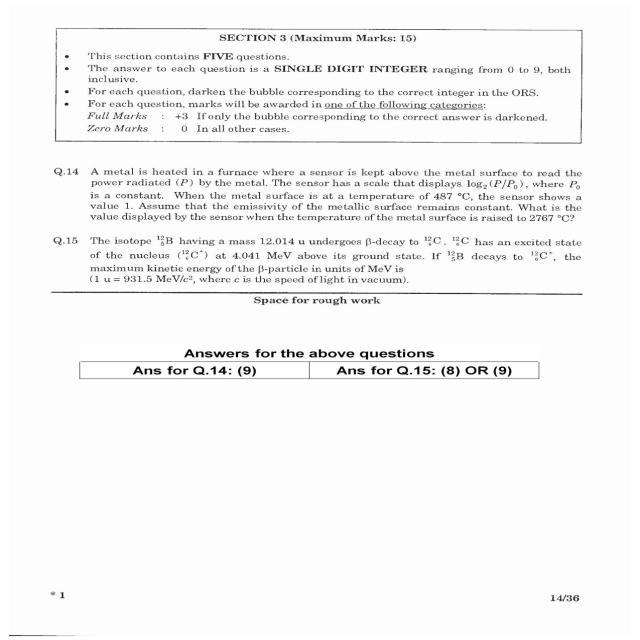Instruction: (29, 8, 619, 149), (29, 328, 619, 412)
Question_Answer_Block: (29, 158, 619, 232), (29, 232, 619, 288)
Question_Block: (29, 158, 619, 232), (29, 232, 619, 288)
Question_Paper_Area: (29, 8, 619, 587)
